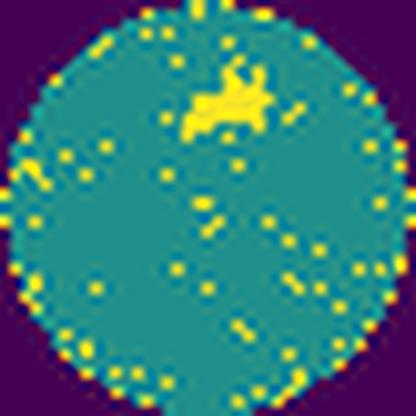Loc: (180, 52, 272, 142)
